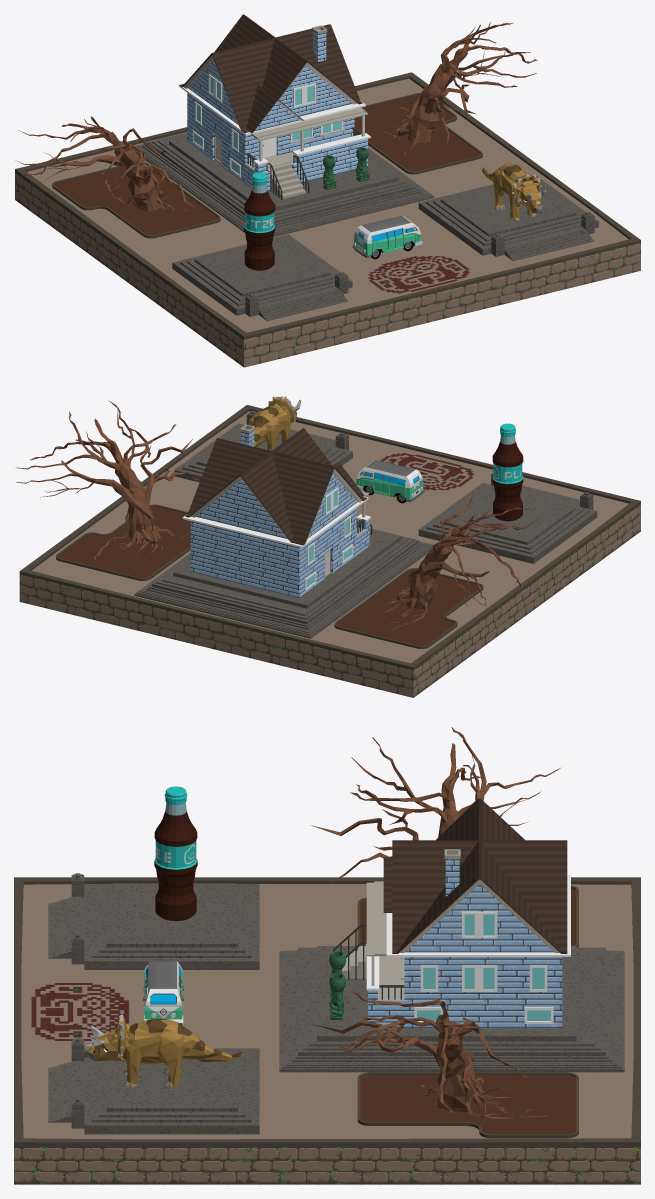
The picture shows the model from 3 angles, top to bottom: view 1: azimuth 30°, elevation 25°; view 2: azimuth 150°, elevation 25°; view 3: azimuth 270°, elevation 25°; orthographic projection. The views are drawn at different scales.
Visible parts, largest first — view 1: Cube.011, Cube.547, OBJRANDOM_PLATZEECOLA, ANIMAL_Triceratops, VEHICLES_VAN; view 2: Cube.011, Cube.547, OBJRANDOM_PLATZEECOLA, VEHICLES_VAN, ANIMAL_Triceratops; view 3: Cube.011, Cube.547, ANIMAL_Triceratops, OBJRANDOM_PLATZEECOLA, VEHICLES_VAN.
Boxes of the visible parts, x1=… form: Cube.011: x1=15, y1=22, x2=640, y2=367; Cube.547: x1=178, y1=14, x2=370, y2=199; OBJRANDOM_PLATZEECOLA: x1=244, y1=172, x2=275, y2=270; ANIMAL_Triceratops: x1=482, y1=163, x2=546, y2=220; VEHICLES_VAN: x1=352, y1=215, x2=422, y2=259; Cube.011: x1=16, y1=400, x2=640, y2=697; Cube.547: x1=182, y1=424, x2=372, y2=597; OBJRANDOM_PLATZEECOLA: x1=492, y1=423, x2=523, y2=521; VEHICLES_VAN: x1=356, y1=460, x2=424, y2=503; ANIMAL_Triceratops: x1=248, y1=396, x2=301, y2=450; Cube.011: x1=14, y1=727, x2=640, y2=1184; Cube.547: x1=333, y1=798, x2=570, y2=1027; ANIMAL_Triceratops: x1=83, y1=1014, x2=242, y2=1088; OBJRANDOM_PLATZEECOLA: x1=154, y1=786, x2=197, y2=921; VEHICLES_VAN: x1=143, y1=961, x2=183, y2=1024.
Bounding box in the file's own units: 5099 × 1638 × 4000.
39 materials, 6 textured.
